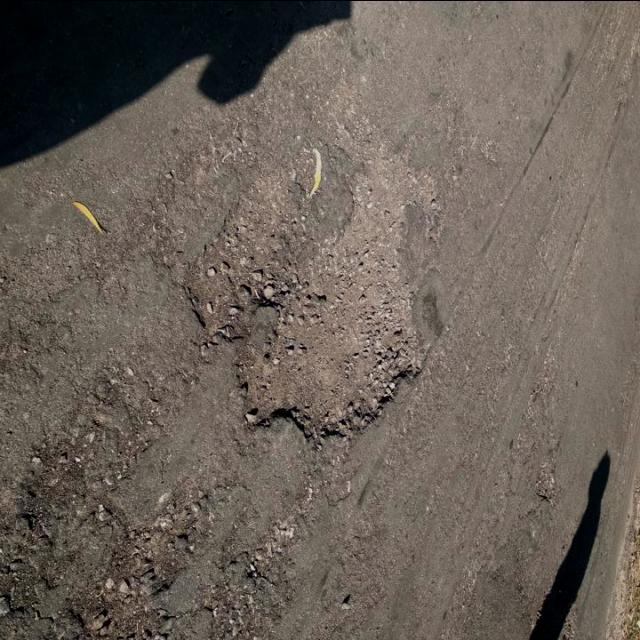pothole: (251, 117, 430, 471), (112, 488, 208, 638), (184, 180, 264, 338), (224, 514, 304, 638)
